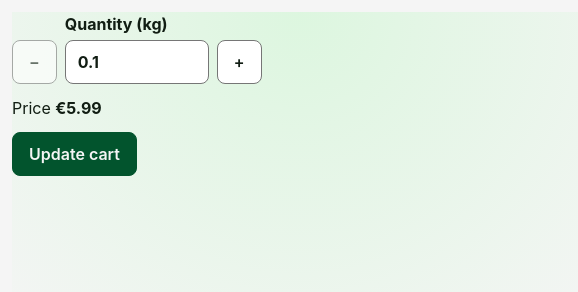
Test: QuantityForm › uses 100g +/- steps and exposes invalid increments as an accessible error
Click the button named "Increase weight amount": (239, 62) 217,40 -> 262,84
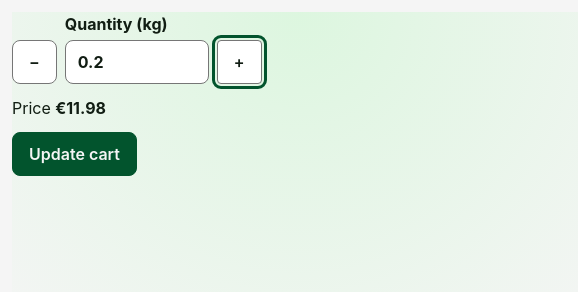
Check: the text "Price" shows "€11.98", box 55,98 -> 106,118
Replace the text in the field labelled "Quantity (kg)" with "0.15": (137, 62) 65,40 -> 209,84
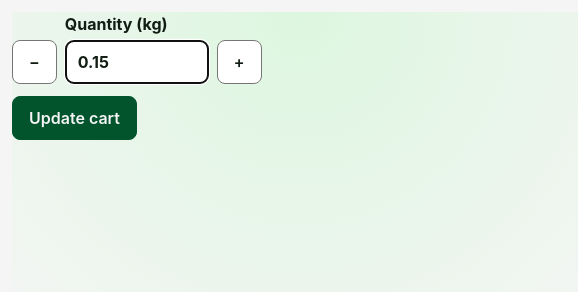
Click the button "Update cart": (74, 118) 12,96 -> 137,140
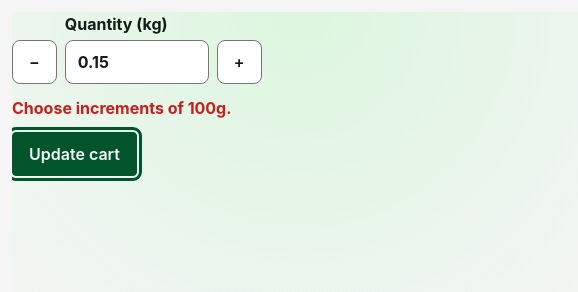
Check: the message reads "Choose increments of 100g.", box 12,98 -> 232,118
